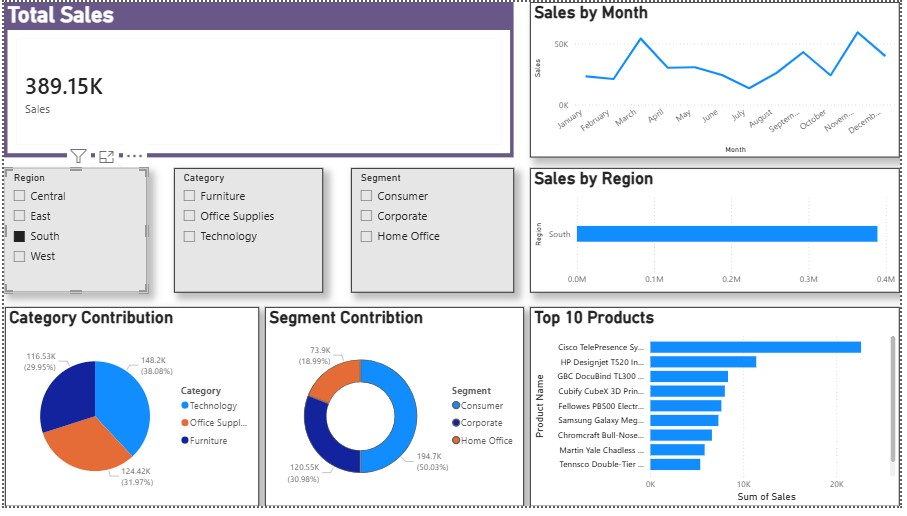

The dashboard page shown, as its layout file describes it:
{"tool":"powerbi","page":{"name":"Page 1","canvas":[1280,720],"ordinal":0},"visuals":[{"type":"cardVisual","title":"Total Sales","fields":{"Data":["Sum(train - CLean.Sales)"]},"box":[0,0,728.3,221.7],"z":0},{"type":"clusteredBarChart","fields":{"Category":["train - CLean.Region"],"Y":["Sum(train - CLean.Sales)"]},"box":[751.7,236.7,528.3,178.3],"z":1000},{"type":"pieChart","title":"Category Contribution","fields":{"Category":["train - CLean.Category"],"Y":["Sum(train - CLean.Sales)"]},"box":[1.7,435,363.3,285],"z":2000},{"type":"lineChart","fields":{"Category":["train - CLean.Order Date.Variation.Date Hierarchy.Year","train - CLean.Order Date.Variation.Date Hierarchy.Quarter","train - CLean.Order Date.Variation.Date Hierarchy.Month","train - CLean.Order Date.Variation.Date Hierarchy.Day"],"Y":["Sum(train - CLean.Sales)"]},"box":[751.7,0,528.3,221.7],"z":3000},{"type":"donutChart","title":"Segment Contribtion","fields":{"Category":["train - CLean.Segment"],"Y":["Sum(train - CLean.Sales)"]},"box":[373.3,435,370,285],"z":4000},{"type":"barChart","title":"Top 10 Products","fields":{"Category":["train - CLean.Product Name"],"Y":["Sum(train - CLean.Sales)"]},"box":[751.7,435,528.3,285],"z":5000},{"type":"slicer","fields":{"Values":["train - CLean.Region"]},"box":[0,236.7,205,178.3],"z":6000},{"type":"slicer","fields":{"Values":["train - CLean.Category"]},"box":[243.3,236.7,213.3,178.3],"z":7000},{"type":"slicer","fields":{"Values":["train - CLean.Segment"]},"box":[495,236.7,233.3,178.3],"z":8000}]}

Visuals, with their boxes in screenshot pixels (x1, y1, x2, y2), scaled from the page's 1280x720 canvas onto the 907x516 screenshot:
"Total Sales" cardVisual: detection(0, 0, 516, 159)
clusteredBarChart - train - CLean.Region x Sum(train - CLean.Sales): detection(533, 170, 906, 297)
"Category Contribution" pieChart: detection(1, 312, 259, 515)
lineChart - train - CLean.Order Date.Variation.Date Hierarchy.Year x train - CLean.Order Date.Variation.Date Hierarchy.Quarter: detection(533, 0, 906, 159)
"Segment Contribtion" donutChart: detection(265, 312, 527, 515)
"Top 10 Products" barChart: detection(533, 312, 906, 515)
slicer - train - CLean.Region: detection(0, 170, 145, 297)
slicer - train - CLean.Category: detection(172, 170, 324, 297)
slicer - train - CLean.Segment: detection(351, 170, 516, 297)
